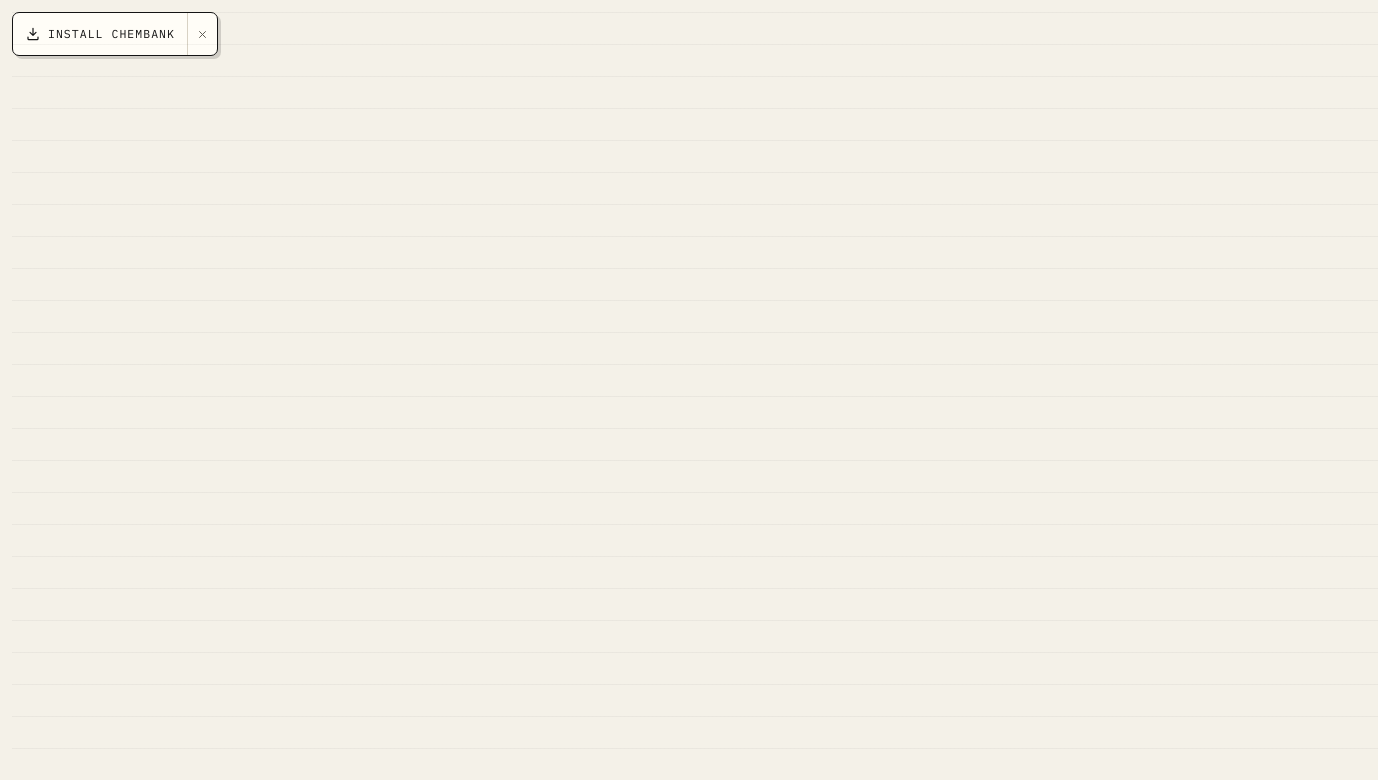
dismiss hides the prompt and persists the choice across mounts
The width and height of the screenshot is (1378, 780).
Step 1. Click the button named "dismiss install prompt" → (202, 34), box [187, 13, 217, 55]
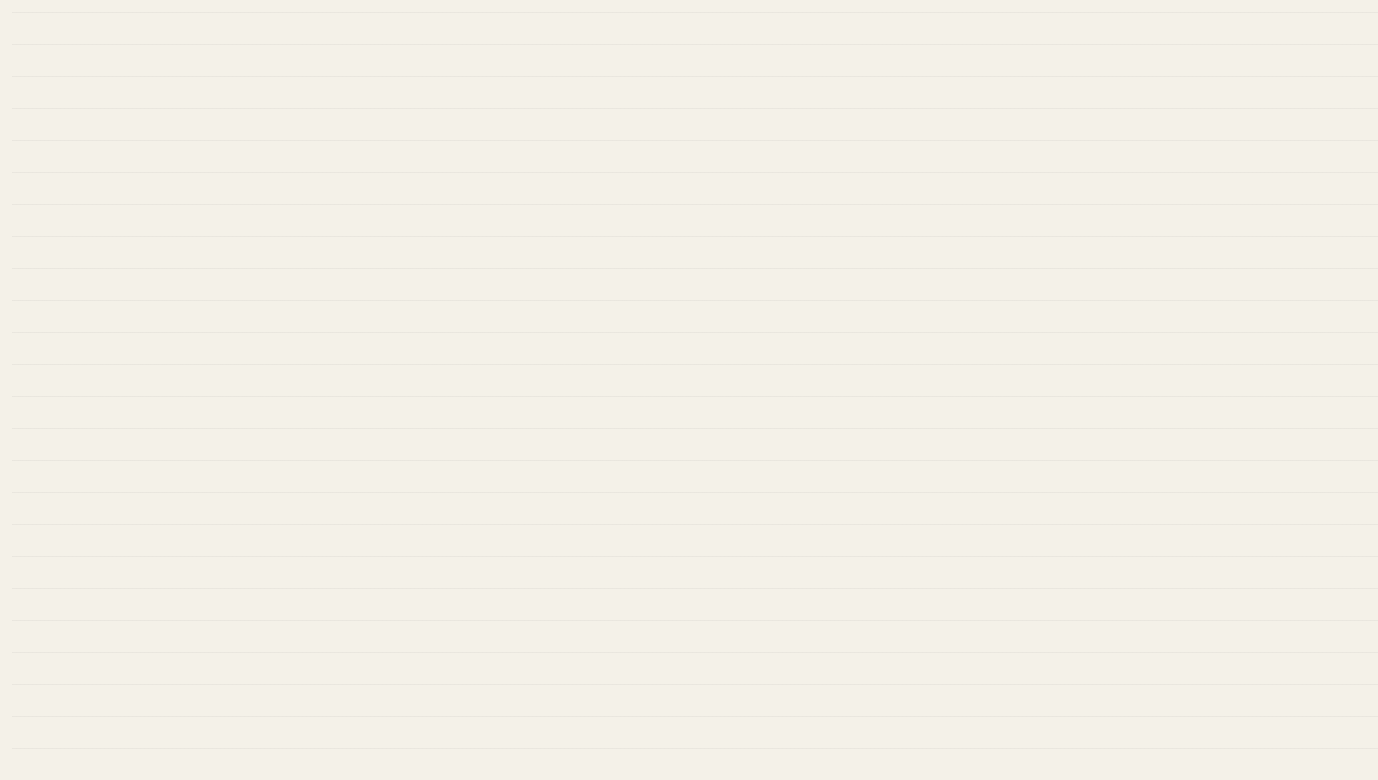
Expected: the button "Install ChemBank" is gone
